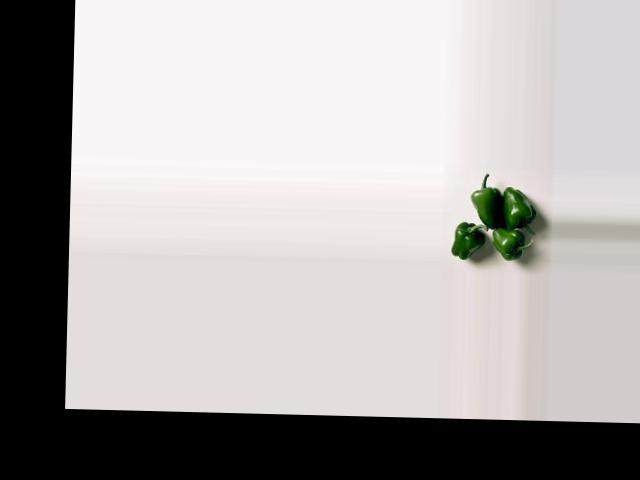bell_pepper: (489, 230, 532, 260)
